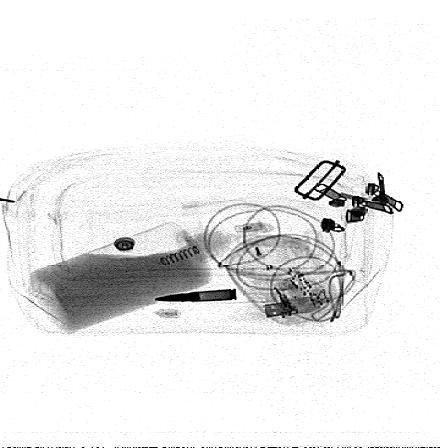Bullet: (151, 289, 239, 303)
